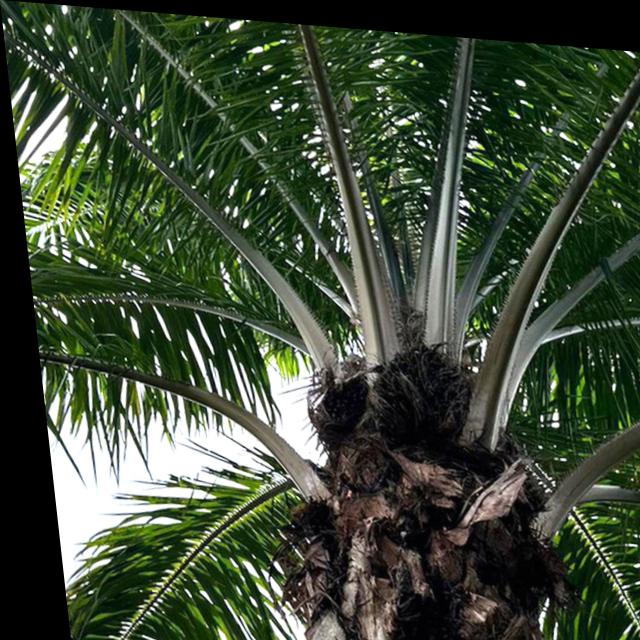almost: (354, 327, 473, 453), (288, 332, 374, 455)
